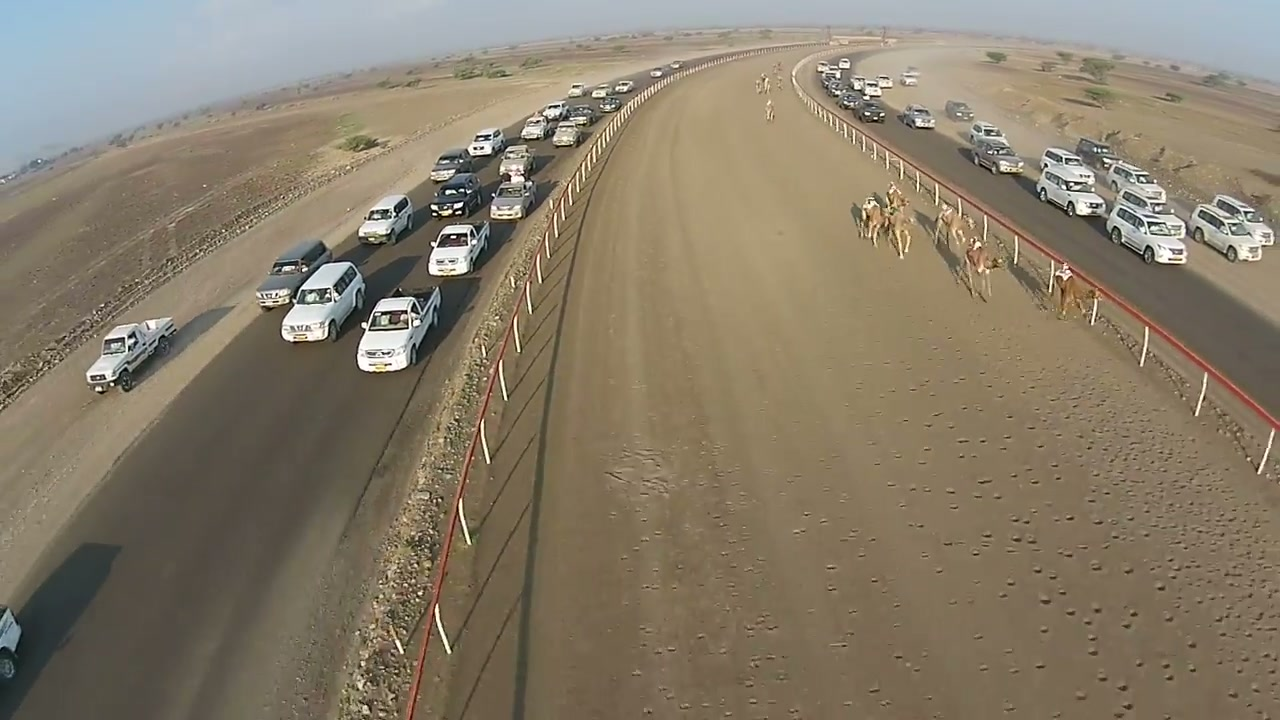animal_foot_print: (888, 247, 1264, 709)
